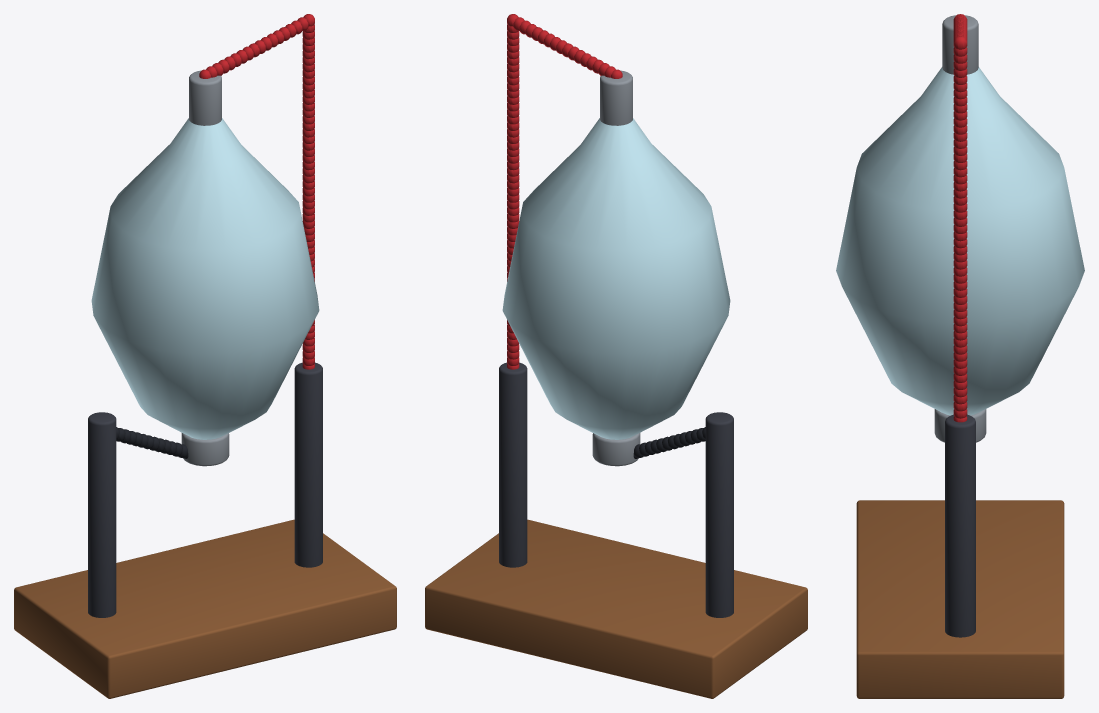
File: crookes_tube.glb
3 views of the same model, side by side, from view 1: azimuth 30°, elevation 25°; view 2: azimuth 150°, elevation 25°; view 3: azimuth 270°, elevation 25° (orthographic). The views are drawn at different scales.
Visible parts, largest first — view 1: crookes_tube; view 2: crookes_tube; view 3: crookes_tube.
Part boxes in pixels (bbox=[...]): crookes_tube: bbox=[14, 14, 396, 698]; crookes_tube: bbox=[425, 14, 807, 698]; crookes_tube: bbox=[836, 14, 1084, 698].
Bounding box in the file's own units: 0.7 × 1.37 × 0.48.
